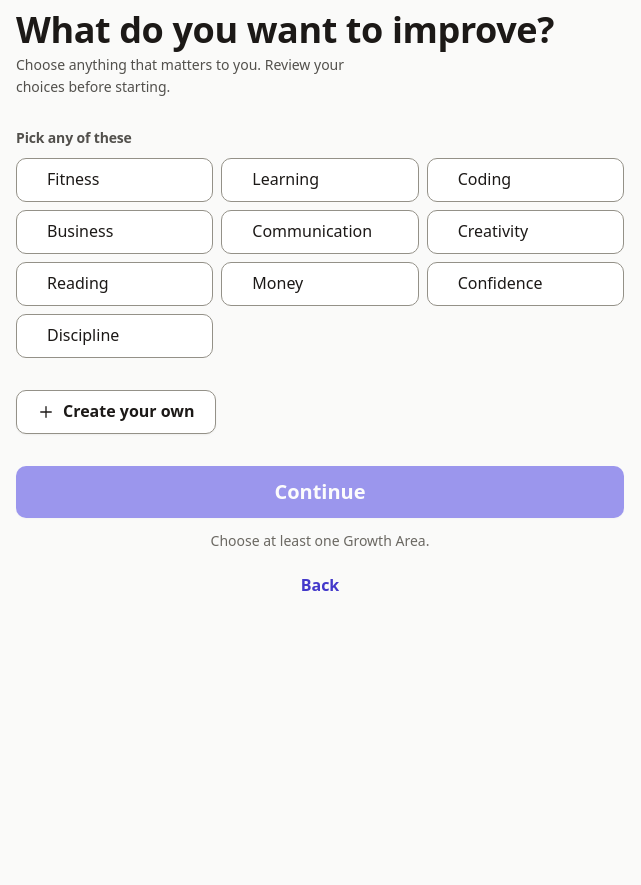
Test: creating your own growth area › normalises whitespace and case, keeping the user’s own spelling
The width and height of the screenshot is (641, 885).
Click the button "Create your own".
click(116, 412)  # box [16,390,216,434]
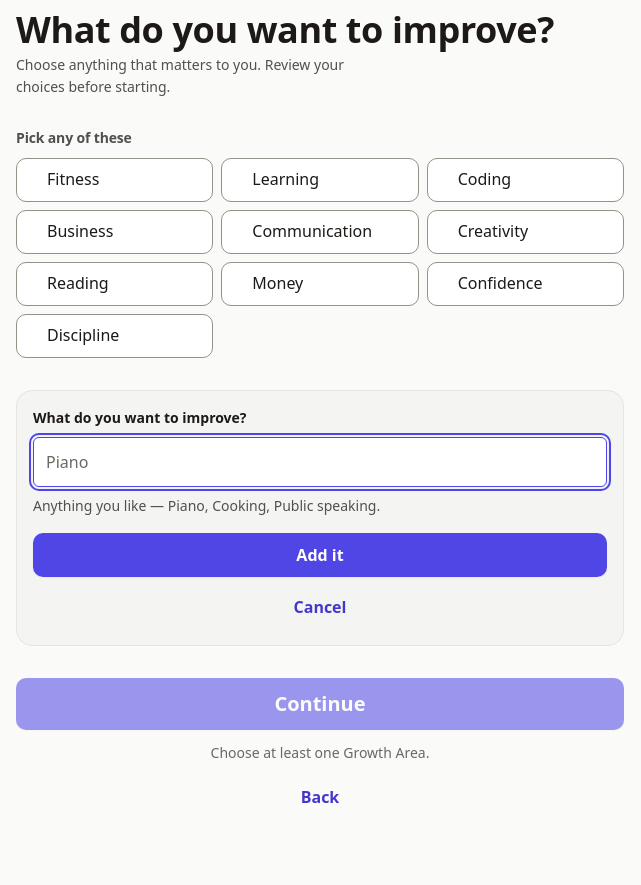
Type "  DIGITAL   marketing  " into the field labelled "What do you want to improve?".
click(320, 462); type("  DIGITAL   marketing  ")  # box [33,436,607,487]
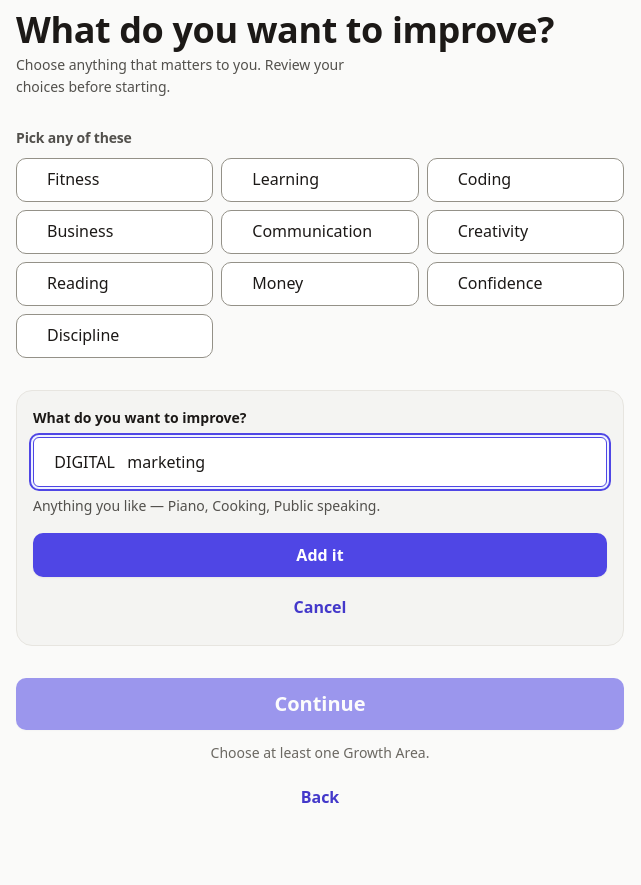
Click the button "Add it".
click(320, 555)  # box [33,533,607,577]
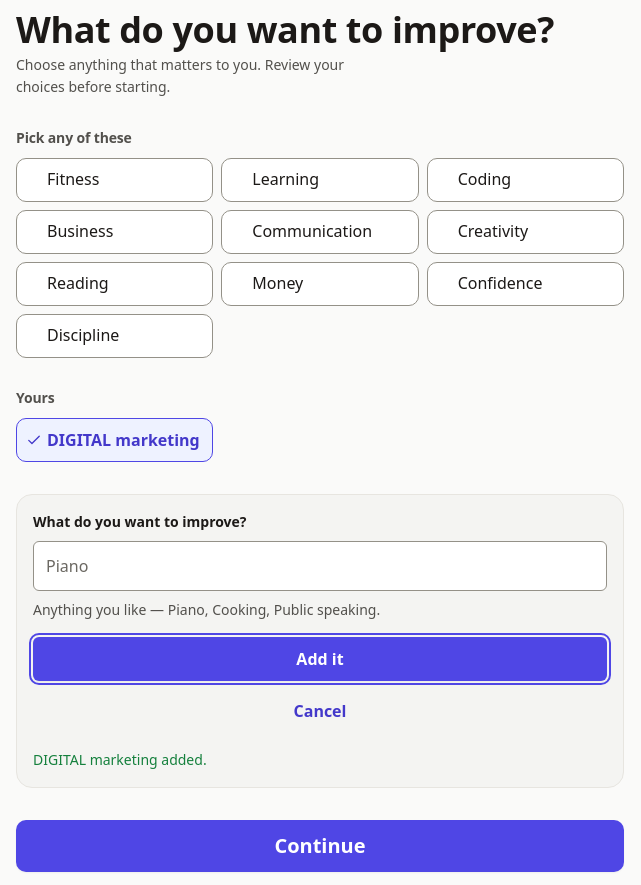
Now the button "DIGITAL marketing" is shown, box [16,418,213,462]
